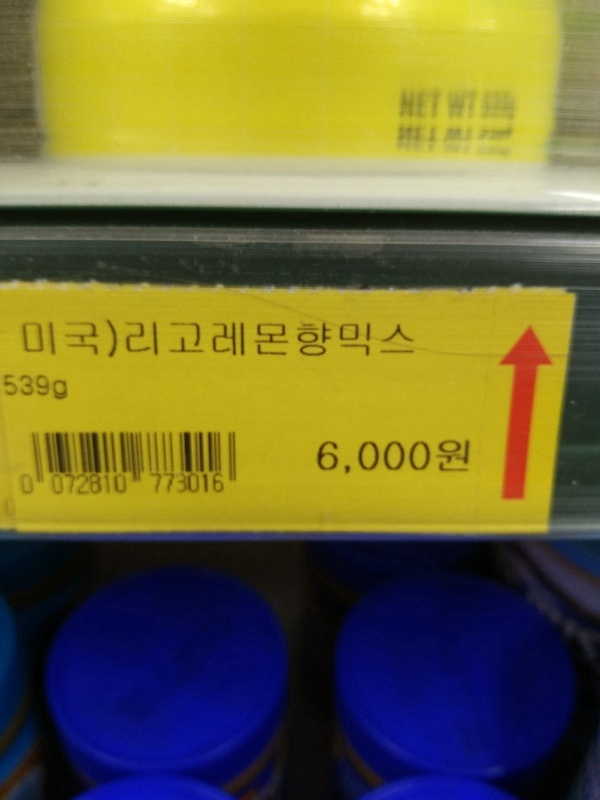text: (129, 316, 144, 361), (145, 316, 160, 361), (161, 316, 176, 361), (177, 316, 192, 361), (193, 316, 208, 361), (209, 316, 224, 361), (225, 316, 240, 361), (241, 316, 256, 361), (257, 316, 272, 361), (273, 316, 288, 361), (289, 316, 304, 361), (305, 316, 320, 361), (321, 316, 336, 361), (337, 316, 352, 361), (353, 316, 368, 361), (369, 316, 384, 361), (385, 316, 400, 361), (401, 316, 416, 361), (33, 317, 48, 361), (49, 317, 64, 361), (65, 317, 80, 361), (81, 317, 96, 361), (97, 317, 112, 361), (321, 434, 336, 477), (337, 434, 352, 477), (353, 434, 368, 477), (369, 434, 384, 477), (385, 434, 400, 477), (401, 434, 416, 477), (417, 434, 432, 477), (433, 434, 448, 477), (449, 434, 464, 477), (465, 86, 481, 125), (449, 86, 464, 125), (401, 88, 416, 124), (417, 88, 432, 124), (497, 86, 512, 122), (401, 122, 416, 158), (417, 122, 432, 158), (449, 125, 464, 161), (482, 86, 496, 122), (21, 317, 32, 361), (481, 127, 496, 159), (497, 127, 512, 159), (465, 125, 478, 161), (17, 374, 32, 403), (33, 374, 48, 403), (49, 374, 64, 403), (161, 471, 176, 496), (177, 471, 192, 496), (193, 471, 208, 496), (209, 471, 224, 496), (65, 473, 80, 497), (81, 473, 96, 497), (97, 473, 112, 497), (113, 473, 128, 497), (4, 374, 16, 403), (433, 88, 442, 124), (433, 122, 442, 158), (20, 472, 32, 498), (52, 473, 64, 497), (149, 471, 160, 496), (113, 317, 119, 361), (465, 434, 471, 477), (513, 86, 520, 122), (123, 316, 128, 361), (417, 316, 422, 361), (65, 374, 69, 403), (398, 122, 400, 158), (446, 125, 448, 161), (478, 127, 480, 159), (33, 472, 35, 498), (513, 127, 514, 159), (225, 471, 226, 496)
